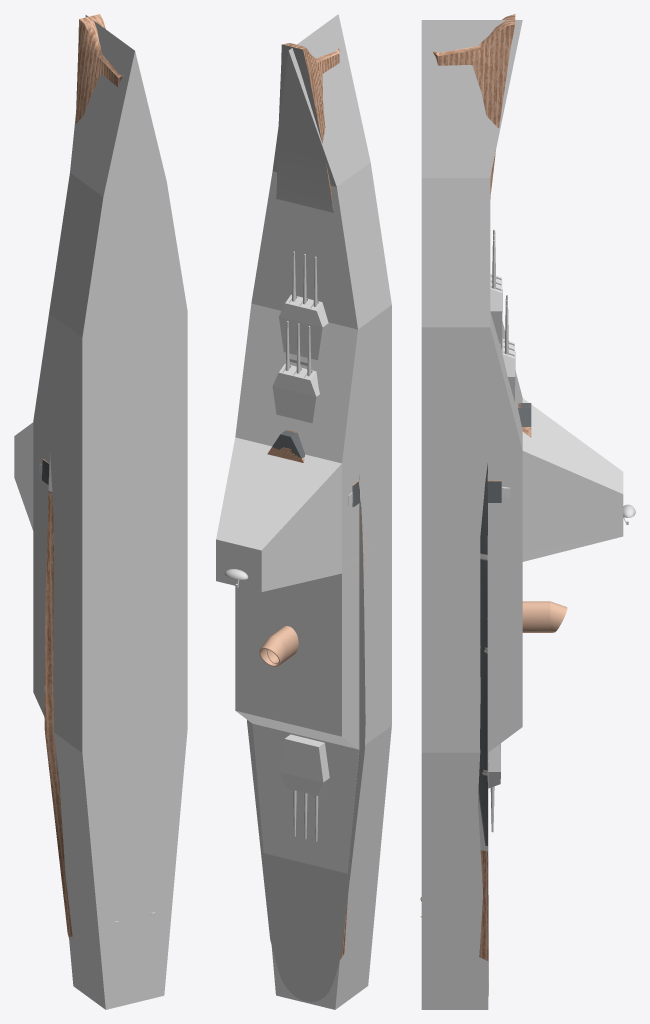
File: Battleship.fbx
3 renders of one model, left to right at view 1: azimuth 30°, elevation 25°; view 2: azimuth 150°, elevation 25°; view 3: azimuth 270°, elevation 25°, orthographic. The views are drawn at different scales.
Parts seen in each view (by area): view 1: Battleship_LowPoly, Battleship; view 2: Battleship_LowPoly, Decks, BSGun3, BSGun2, BSGun1, Battleship, Smokestack.006, Battleship_ColorDetail, BSGunBarrels, BSGunBarrels.001, Smokestack.007, BSGunBarrels.002; view 3: Battleship_LowPoly, Battleship, Smokestack.006, BSGun2, BSGun3.
Boxes of the visible parts, <box> form: Battleship_LowPoly: <box>14,15,187,1009</box>; Battleship: <box>42,14,123,937</box>; Battleship_LowPoly: <box>216,14,391,1009</box>; Decks: <box>247,44,365,1001</box>; BSGun3: <box>279,734,329,795</box>; BSGun2: <box>279,294,328,360</box>; BSGun1: <box>272,364,319,423</box>; Battleship: <box>280,43,364,959</box>; Smokestack.006: <box>266,626,298,663</box>; Battleship_ColorDetail: <box>267,434,303,462</box>; BSGunBarrels: <box>285,321,311,376</box>; BSGunBarrels.001: <box>292,251,317,306</box>; Smokestack.007: <box>259,635,284,666</box>; BSGunBarrels.002: <box>293,790,318,841</box>; Battleship_LowPoly: <box>421,20,623,1009</box>; Battleship: <box>432,14,531,996</box>; Smokestack.006: <box>522,601,550,632</box>; BSGun2: <box>490,273,502,343</box>; BSGun3: <box>488,743,500,788</box>.
Bounding box in the file's own units: 3388 × 26209 × 5234.
